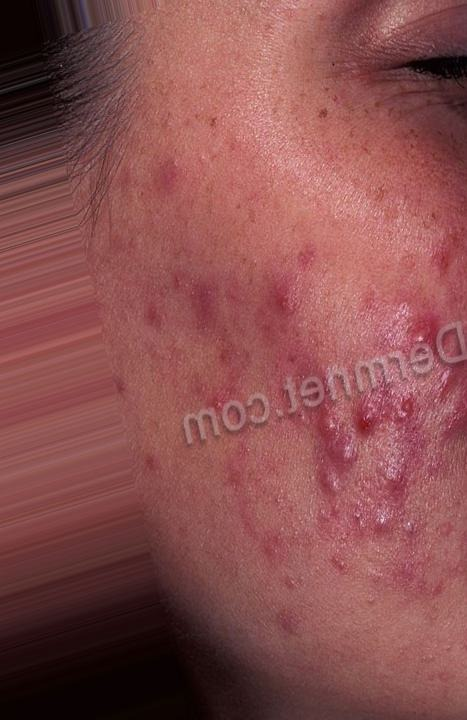Acne: (126, 131, 466, 587)
